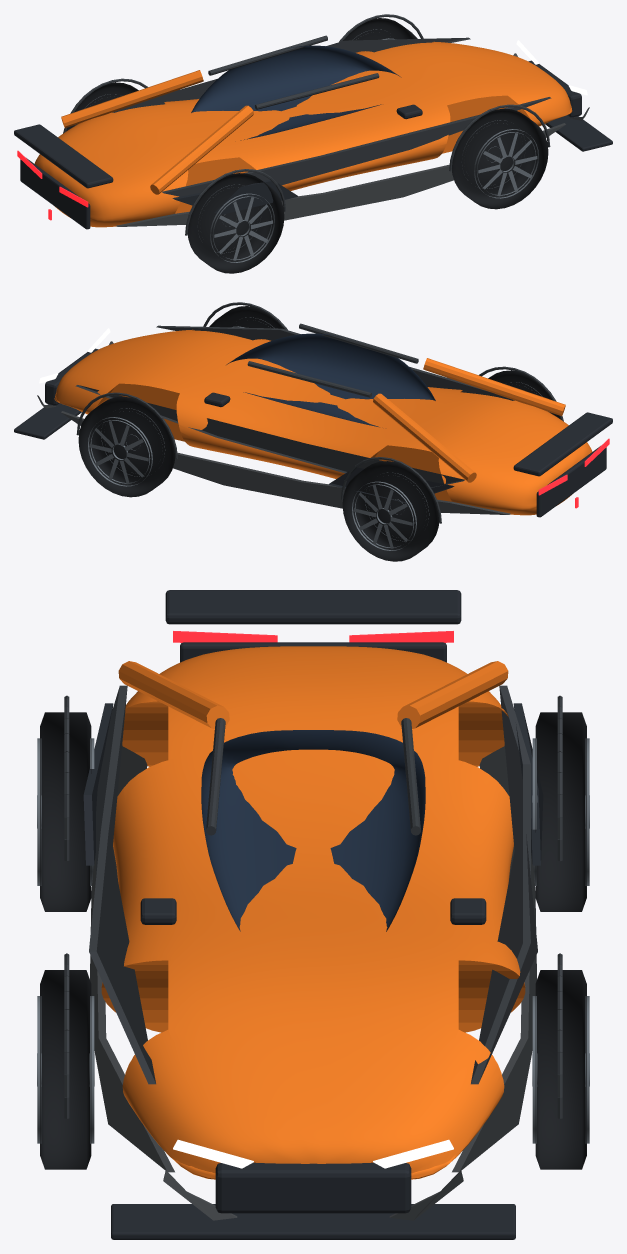
The model's file is kestrel-original.glb.
3 views of the same model, one above another, from view 1: azimuth 30°, elevation 25°; view 2: azimuth 150°, elevation 25°; view 3: azimuth 270°, elevation 25° (orthographic). The views are drawn at different scales.
Parts seen in each view (by area): view 1: Body, WheelFrontRight, WheelRearRight, WheelFrontLeft, WheelRearLeft; view 2: Body, WheelRearLeft, WheelFrontLeft, WheelFrontRight, WheelRearRight; view 3: Body, WheelFrontLeft, WheelFrontRight, WheelRearLeft, WheelRearRight.
Boxes of the visible parts, box(x1,y1,x2,y2) form: Body: box(14, 14, 612, 235); WheelFrontRight: box(452, 108, 548, 209); WheelRearRight: box(187, 173, 284, 273); WheelFrontLeft: box(343, 18, 417, 40); WheelRearLeft: box(66, 82, 138, 131); Body: box(14, 302, 612, 523); WheelRearLeft: box(342, 461, 439, 561); WheelFrontLeft: box(78, 396, 174, 497); WheelFrontRight: box(209, 306, 283, 328); WheelRearRight: box(488, 370, 560, 419); Body: box(64, 590, 562, 1239); WheelFrontLeft: box(532, 970, 589, 1169); WheelFrontRight: box(37, 970, 94, 1169); WheelRearLeft: box(532, 712, 589, 911); WheelRearRight: box(37, 712, 94, 911).
Size of the model in its own units: 4.98 by 1.21 by 2.34.
